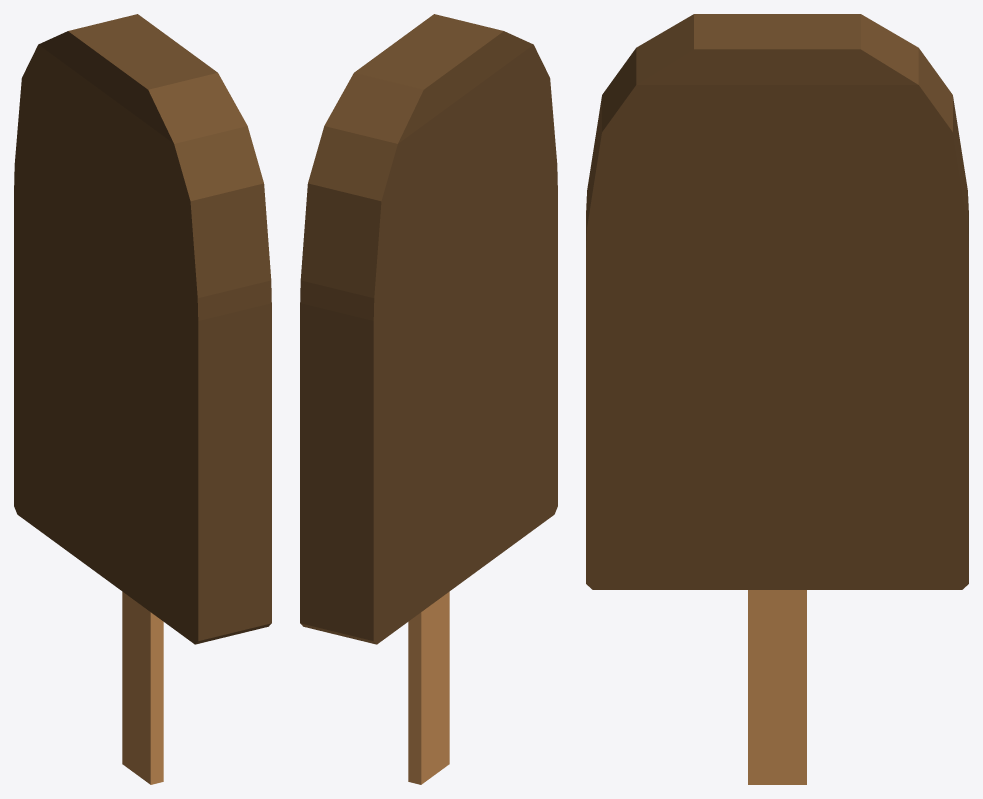
Rendered from ice_cream_02.fbx.
3 views of the same model, side by side, from view 1: azimuth 30°, elevation 25°; view 2: azimuth 150°, elevation 25°; view 3: azimuth 270°, elevation 25° (orthographic). The views are drawn at different scales.
Parts seen in each view (by area): view 1: Cube.003; view 2: Cube.003; view 3: Cube.003.
Boxes of the visible parts, x1,y1,x2,y2 form: Cube.003: (14, 14, 271, 784); Cube.003: (300, 14, 557, 784); Cube.003: (586, 14, 968, 784).
Size of the model in its own units: 23.24 by 218 by 101.
